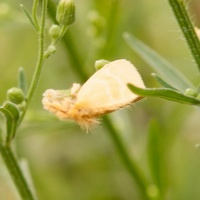insect: (42, 59, 144, 130)
